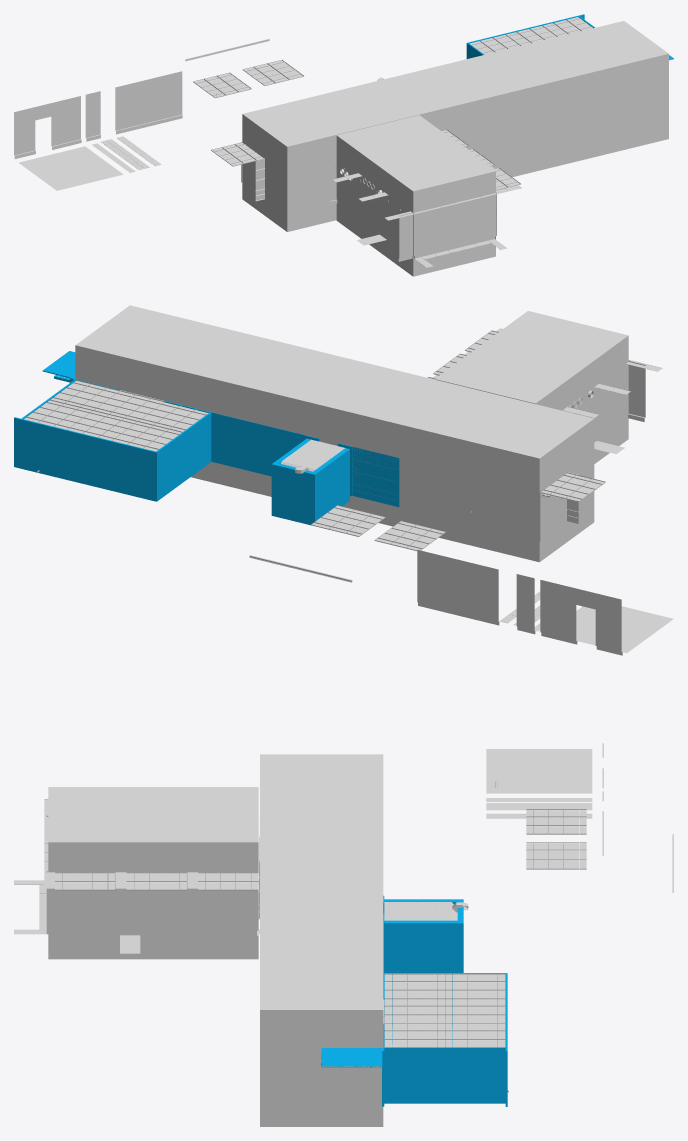
Rendered from SM_Interior2.glb.
3 views of the same model, one above another, from view 1: azimuth 30°, elevation 25°; view 2: azimuth 150°, elevation 25°; view 3: azimuth 270°, elevation 25° (orthographic). The views are drawn at different scales.
Parts seen in each view (by area): view 1: SNDVOL_Ambience_CaveWindy1, SNDVOL_Ambience_Cave1, SM_TrimTiles1_Wall1.002, SM_TrimTiles1_Wall3_Frame.001, Plane.021, SM_TrimTiles1_Wall3_Frame.002, SM_TrimConcrete1_Ceeling4.001, SM_TrimConcrete1_Ceeling1.015, SM_TrimTiles1_Wall2_Short.001, SM_TrimConcrete1_Ceeling1.016, SM_TrimTiles1_Wall2_Short.003, SM_TrimConcrete1_Ceeling1.012 (+4 smaller); view 2: SNDVOL_Ambience_CaveWindy1, SNDVOL_Ambience_Cave1, SM_TrimTiles1_Wall1.002, SM_TrimTiles1_Wall3_Frame.001, SM_Interior2_convcolonly_075, SM_Interior2_convcolonly_005, SM_Interior2_convcolonly_006, SM_Interior2_convcolonly_048, SM_Interior2_convcolonly_007, SM_Interior2_convcolonly_076, Plane.021, SM_Interior2_convcolonly_073 (+16 smaller); view 3: SNDVOL_Ambience_CaveWindy1, SNDVOL_Ambience_Cave1, Plane.021, SM_TrimTiles1_Wall1.004, SM_TrimTiles1_Wall1, SM_Interior2_convcolonly_074, SM_Interior2_convcolonly_008, SM_Interior2_convcolonly_009, SM_TrimConcrete1_Ceeling4.001, SM_TrimConcrete1_Ceeling1.008, SM_TrimConcrete1_Ceeling1.011, SM_TrimConcrete1_Ceeling1.015 (+10 smaller).
Boxes of the visible parts, bbox=[...] form: SNDVOL_Ambience_CaveWindy1: bbox=[242, 21, 668, 231]; SNDVOL_Ambience_Cave1: bbox=[336, 115, 495, 276]; SM_TrimTiles1_Wall1.002: bbox=[115, 71, 182, 134]; SM_TrimTiles1_Wall3_Frame.001: bbox=[14, 96, 81, 158]; Plane.021: bbox=[19, 146, 123, 190]; SM_TrimTiles1_Wall3_Frame.002: bbox=[414, 202, 458, 255]; SM_TrimConcrete1_Ceeling4.001: bbox=[242, 60, 304, 85]; SM_TrimConcrete1_Ceeling1.015: bbox=[193, 72, 251, 98]; SM_TrimTiles1_Wall2_Short.001: bbox=[85, 91, 100, 141]; SM_TrimConcrete1_Ceeling1.016: bbox=[211, 142, 264, 166]; SM_TrimTiles1_Wall2_Short.003: bbox=[398, 212, 414, 261]; SM_TrimConcrete1_Ceeling1.012: bbox=[505, 26, 556, 45]; SNDVOL_Ambience_CaveWindy1: bbox=[75, 305, 594, 562]; SNDVOL_Ambience_Cave1: bbox=[435, 311, 628, 463]; SM_TrimTiles1_Wall1.002: bbox=[417, 549, 499, 625]; SM_TrimTiles1_Wall3_Frame.001: bbox=[540, 580, 622, 655]; SM_Interior2_convcolonly_075: bbox=[271, 462, 317, 525]; SM_Interior2_convcolonly_005: bbox=[108, 440, 155, 501]; SM_Interior2_convcolonly_006: bbox=[61, 428, 108, 489]; SM_Interior2_convcolonly_048: bbox=[352, 447, 399, 507]; SM_Interior2_convcolonly_007: bbox=[14, 417, 61, 478]; SM_Interior2_convcolonly_076: bbox=[211, 412, 257, 472]; Plane.021: bbox=[576, 606, 673, 653]; SM_Interior2_convcolonly_073: bbox=[313, 448, 349, 519]; SNDVOL_Ambience_CaveWindy1: bbox=[260, 754, 383, 1126]; SNDVOL_Ambience_Cave1: bbox=[48, 787, 258, 959]; Plane.021: bbox=[486, 749, 592, 793]; SM_TrimTiles1_Wall1.004: bbox=[46, 871, 152, 934]; SM_TrimTiles1_Wall1: bbox=[152, 871, 258, 930]; SM_Interior2_convcolonly_074: bbox=[384, 920, 457, 972]; SM_Interior2_convcolonly_008: bbox=[444, 1047, 505, 1103]; SM_Interior2_convcolonly_009: bbox=[383, 1047, 444, 1103]; SM_TrimConcrete1_Ceeling4.001: bbox=[526, 842, 586, 869]; SM_TrimConcrete1_Ceeling1.008: bbox=[384, 973, 445, 999]; SM_TrimConcrete1_Ceeling1.011: bbox=[445, 973, 505, 999]; SM_TrimConcrete1_Ceeling1.015: bbox=[526, 809, 586, 834].
Size of what is drawn, in the model's own units: 34.54 by 5.06 by 25.83.
